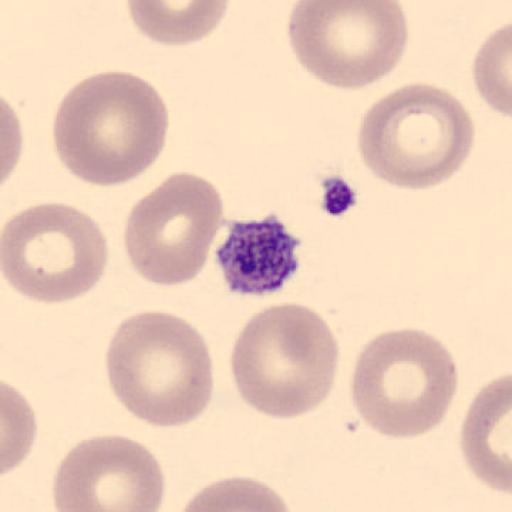Platelet: (214, 212, 304, 298)
RBC: (50, 69, 170, 189), (103, 308, 216, 430), (228, 302, 341, 422), (356, 80, 476, 192), (348, 326, 460, 440), (122, 170, 225, 288), (2, 200, 110, 306), (286, 0, 409, 92), (51, 432, 167, 512), (459, 372, 512, 496), (124, 0, 232, 47), (175, 474, 294, 512), (472, 21, 512, 119), (2, 378, 38, 478), (0, 93, 24, 192)
